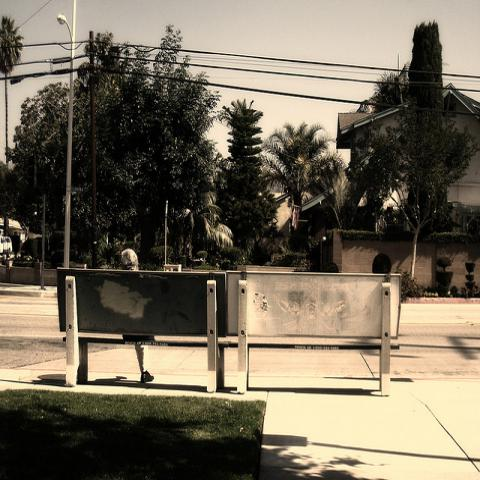car: (13, 251, 34, 267), (0, 236, 12, 258)
